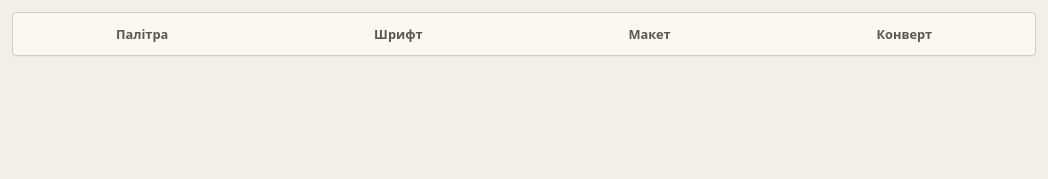
Test: DesignToolbar › opens a sheet for the pressed tab
Click the button "Палітра".
click(142, 34)  # box [13,13,271,55]
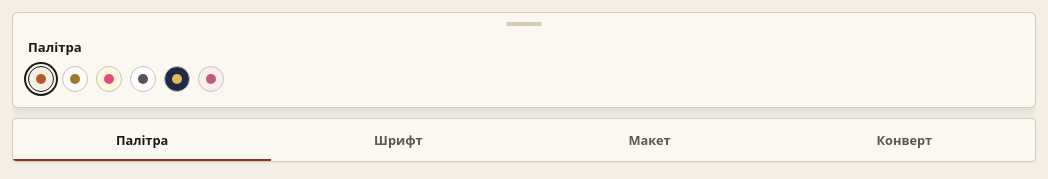
Result: the element with class "cc-design-sheet" is shown at [12,12,1036,108]
Result: the number of buttons with class "swatch" is 6 at [28,66,54,92]; [62,66,88,92]; [96,66,122,92]; [130,66,156,92]; [164,66,190,92]; [198,66,224,92]
Result: the 1st button with class "swatch" is shown at [28,66,54,92]
